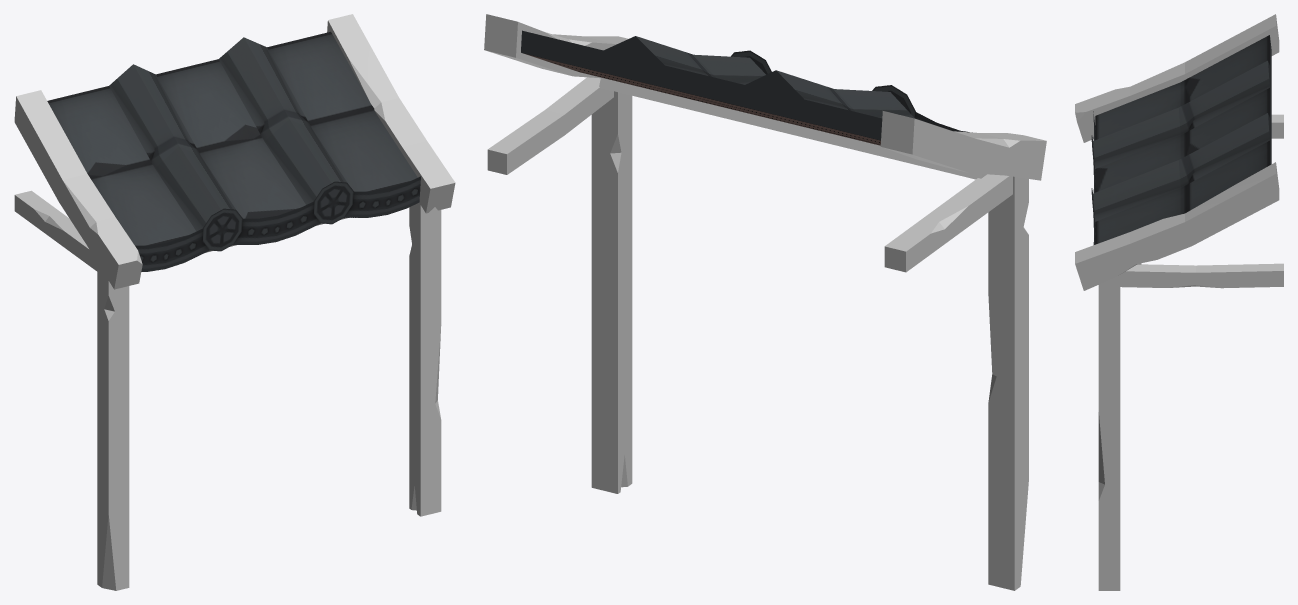
Rendered from SM_Bld_Awning_04.fbx.
The picture shows the model from 3 angles, left to right: view 1: azimuth 30°, elevation 25°; view 2: azimuth 150°, elevation 25°; view 3: azimuth 270°, elevation 25°; orthographic projection. The views are drawn at different scales.
Visible parts, largest first — view 1: SM_Bld_Awning_04; view 2: SM_Bld_Awning_04; view 3: SM_Bld_Awning_04.
Part boxes in pixels (bbox=[...]): SM_Bld_Awning_04: bbox=[14, 14, 455, 590]; SM_Bld_Awning_04: bbox=[484, 14, 1046, 590]; SM_Bld_Awning_04: bbox=[1075, 14, 1283, 590].
Size of the model in its own units: 235 by 292 by 130.
